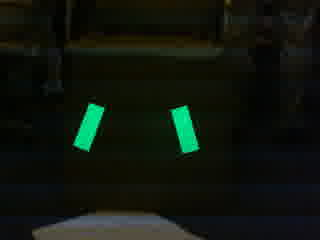target: (71, 102, 201, 155)
